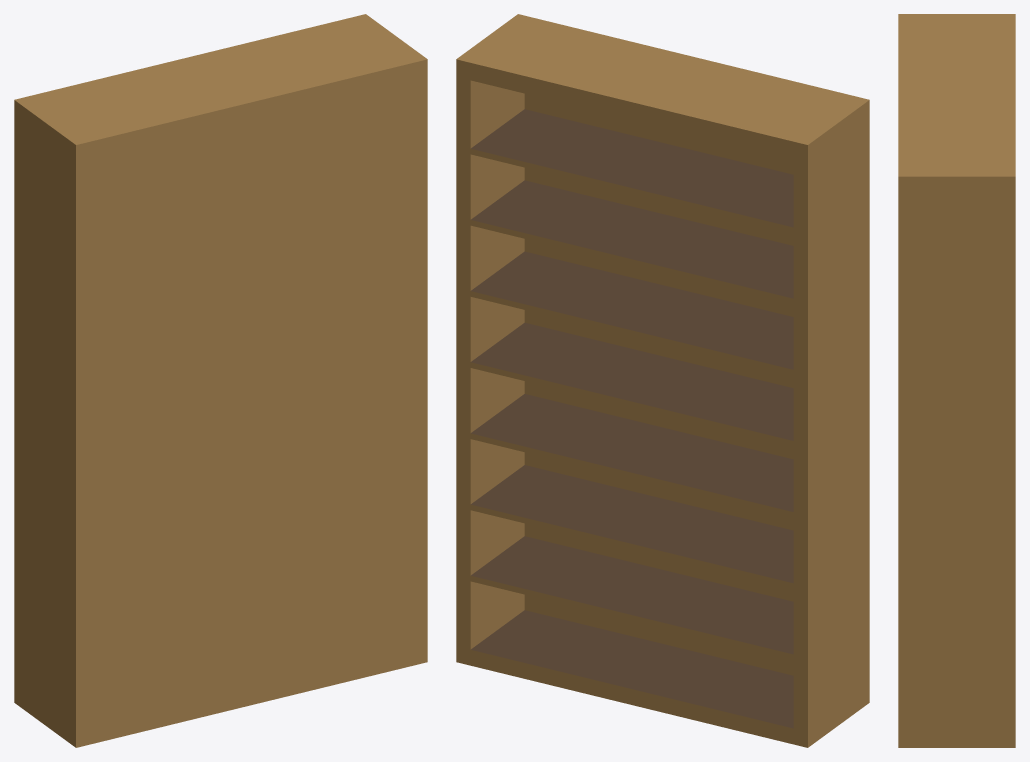
The model's file is fe67d0a6-56c1-456e-ac1d-dcdde99e5719.glb.
The picture shows the model from 3 angles, left to right: view 1: azimuth 30°, elevation 25°; view 2: azimuth 150°, elevation 25°; view 3: azimuth 270°, elevation 25°; orthographic projection. The views are drawn at different scales.
Visible parts, largest first — view 1: ArtShelf.009; view 2: ArtShelf.009; view 3: ArtShelf.009.
Boxes of the visible parts, x1,y1,x2,y2 form: ArtShelf.009: (14,14,427,747); ArtShelf.009: (456,14,869,747); ArtShelf.009: (898,14,1015,747).
Size of what is drawn, in the model's own units: 1.38 by 2.26 by 0.4205.
Materials: 1 (1 with a texture image).
